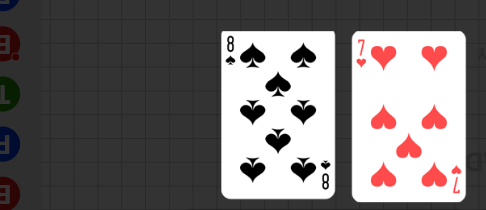10S: (225, 35, 238, 68)
7H: (450, 164, 464, 196)
